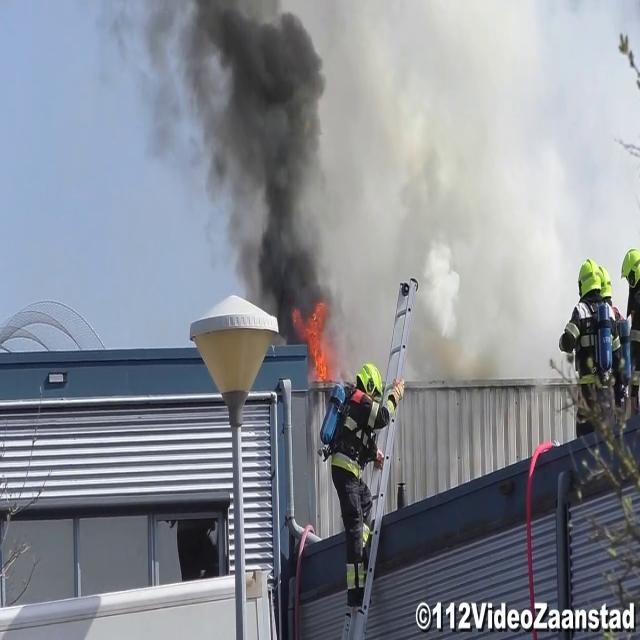Fire: (302, 296, 341, 388)
Smoke: (344, 0, 566, 397), (158, 0, 348, 326)
